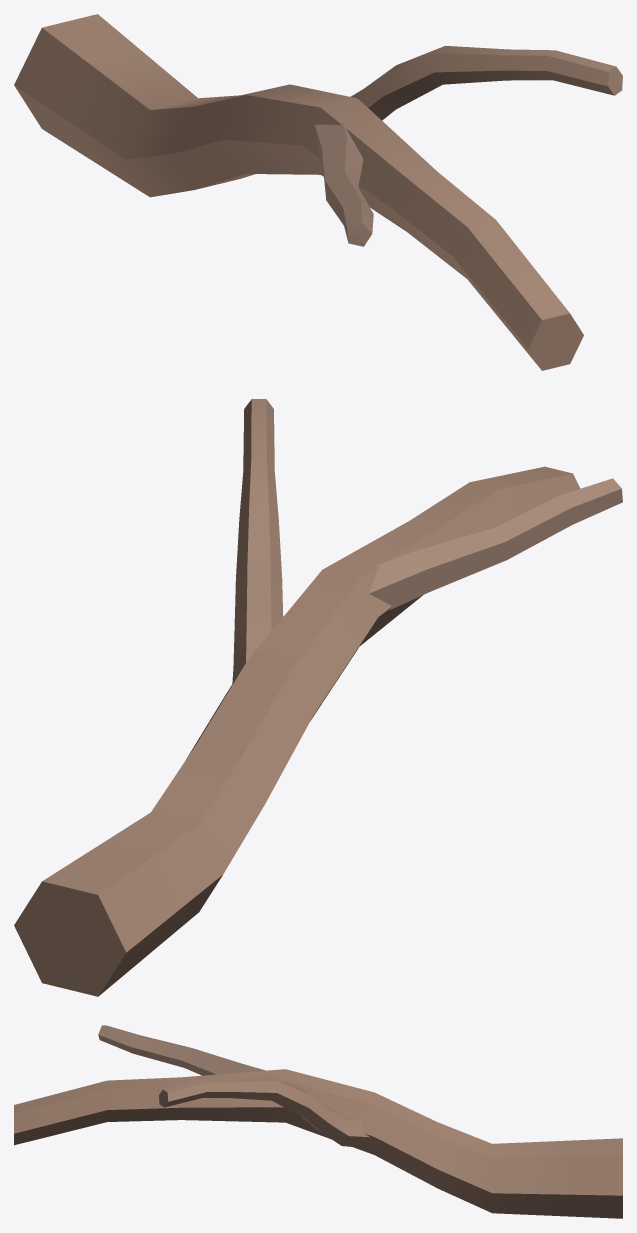
The model's file is tak3.fbx.
3 renders of one model, top to bottom at view 1: azimuth 30°, elevation 25°; view 2: azimuth 150°, elevation 25°; view 3: azimuth 270°, elevation 25°, orthographic. The views are drawn at different scales.
Visible parts, largest first — view 1: pCylinder7, pCylinder8; view 2: pCylinder7, pCylinder8; view 3: pCylinder7, pCylinder8.
Boxes of the visible parts, bbox=[...] form: pCylinder7: bbox=[14, 14, 622, 370]; pCylinder8: bbox=[315, 122, 373, 246]; pCylinder7: bbox=[14, 399, 580, 996]; pCylinder8: bbox=[369, 478, 622, 610]; pCylinder7: bbox=[14, 1069, 622, 1218]; pCylinder8: bbox=[98, 1025, 265, 1075].
Size of the model in its own units: 1.5 by 1.23 by 3.89.
